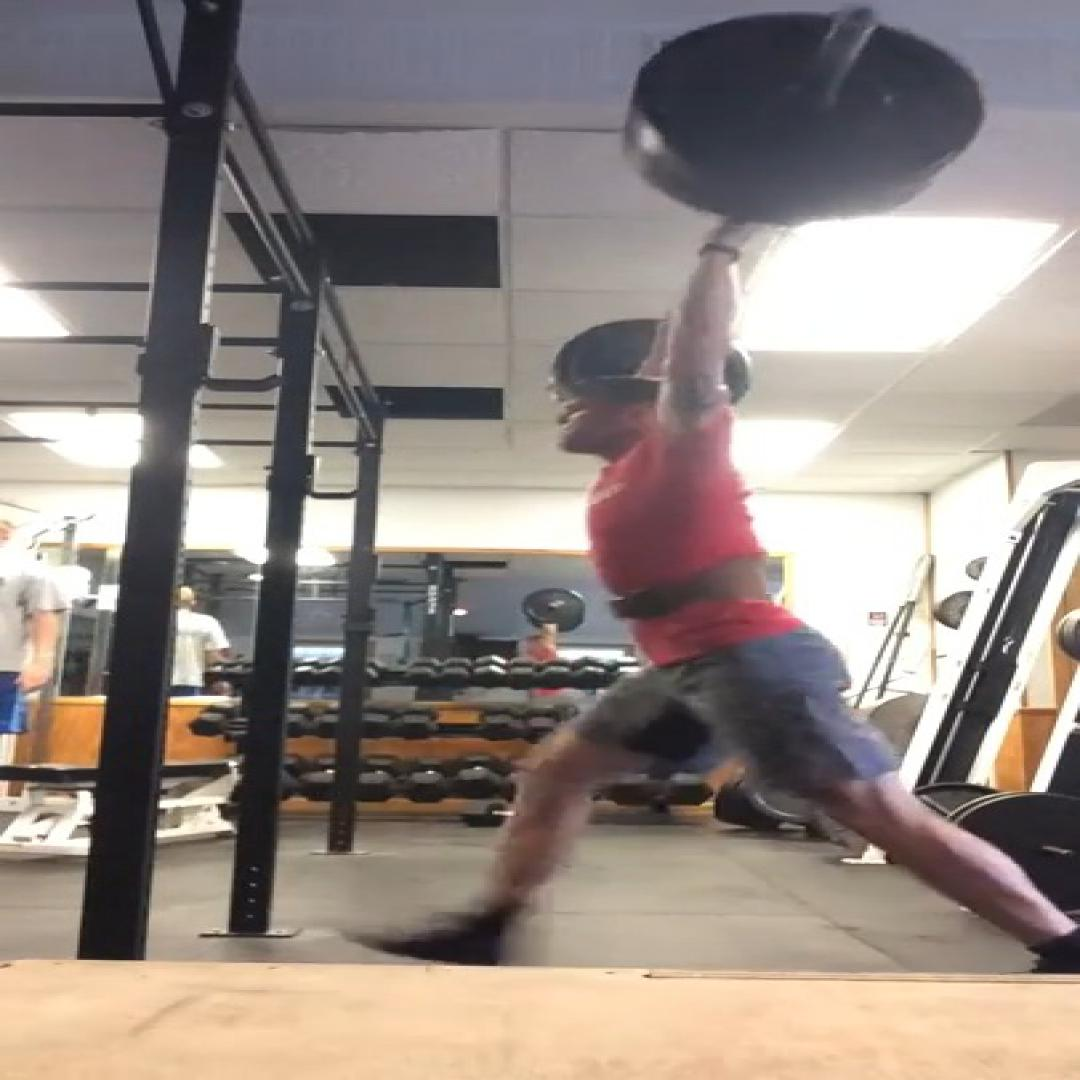Bar: (838, 6, 880, 26)
Barbell: (636, 14, 984, 180)
